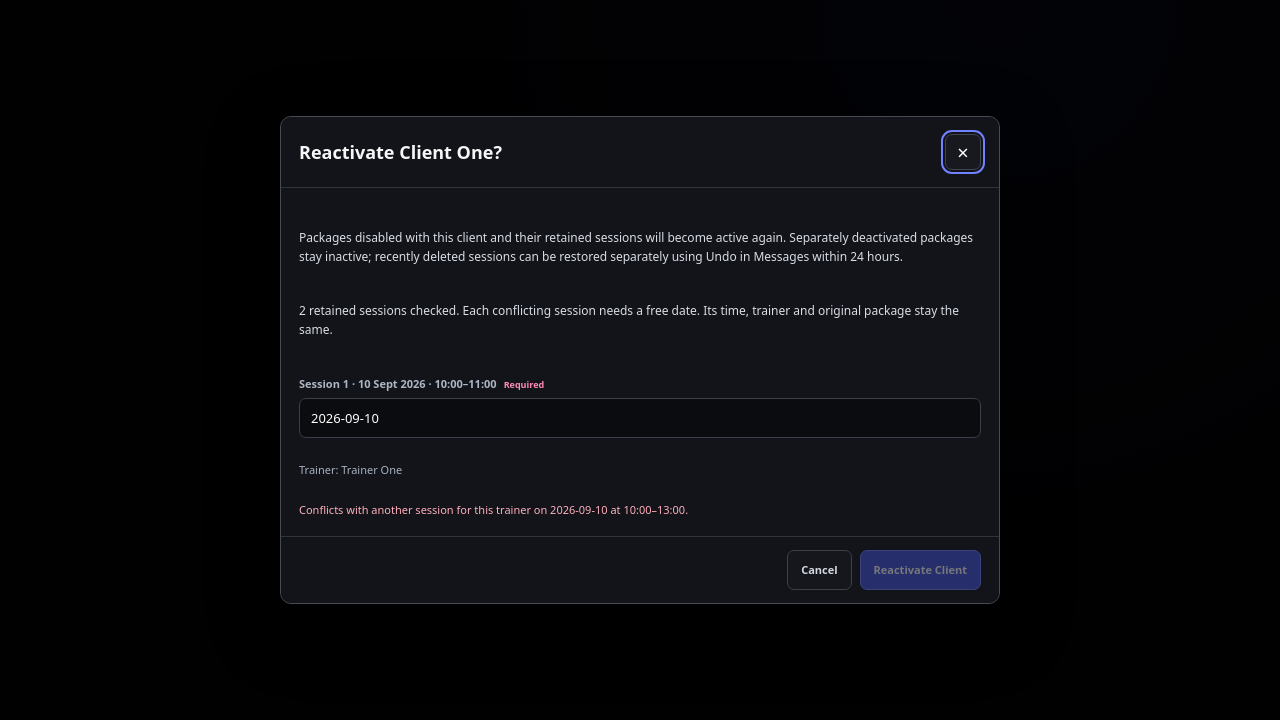
Test: blocks malformed dates and conflicts introduced by proposed moves
Replace the text in the field labelled "Session 1 · 10 Sept 2026 · 10:00–11:00 Required" with "2026-02-31" at (640, 418), box [299, 398, 981, 438]
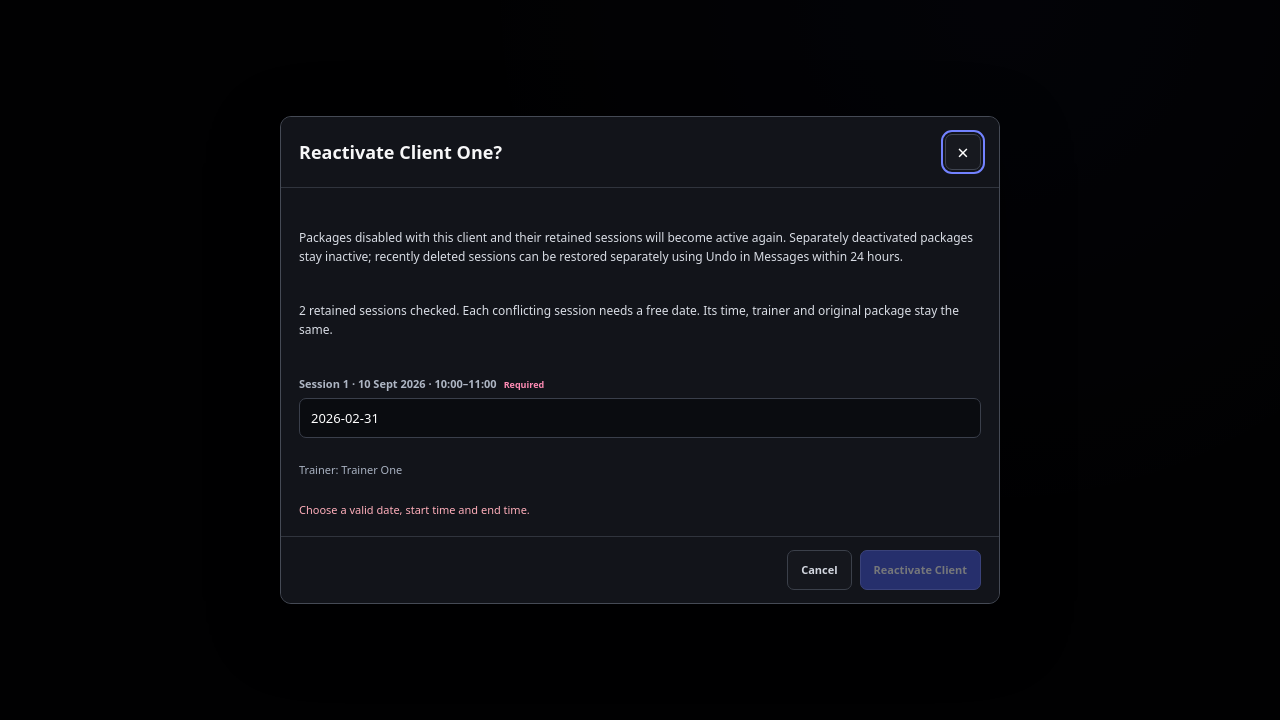
Expected: the button "Reactivate Client" is disabled, [860, 550, 981, 590]
Replace the text in the field labelled "Session 1 · 10 Sept 2026 · 10:00–11:00 Required" with "2026-09-11" at (640, 418), box [299, 398, 981, 438]
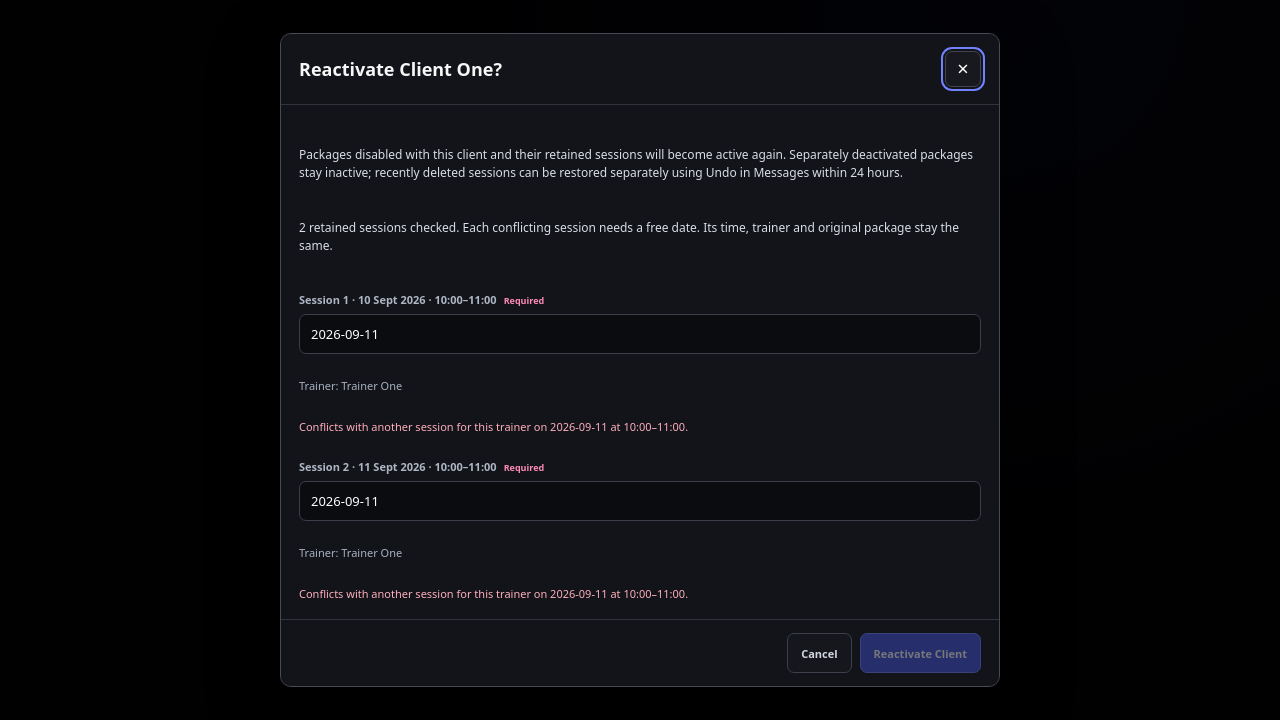
Expected: the button "Reactivate Client" is disabled, [860, 633, 981, 673]
Replace the text in the field labelled "Session 2 · 11 Sept 2026 · 10:00–11:00 Required" with "2026-09-12" at (640, 501), box [299, 481, 981, 521]
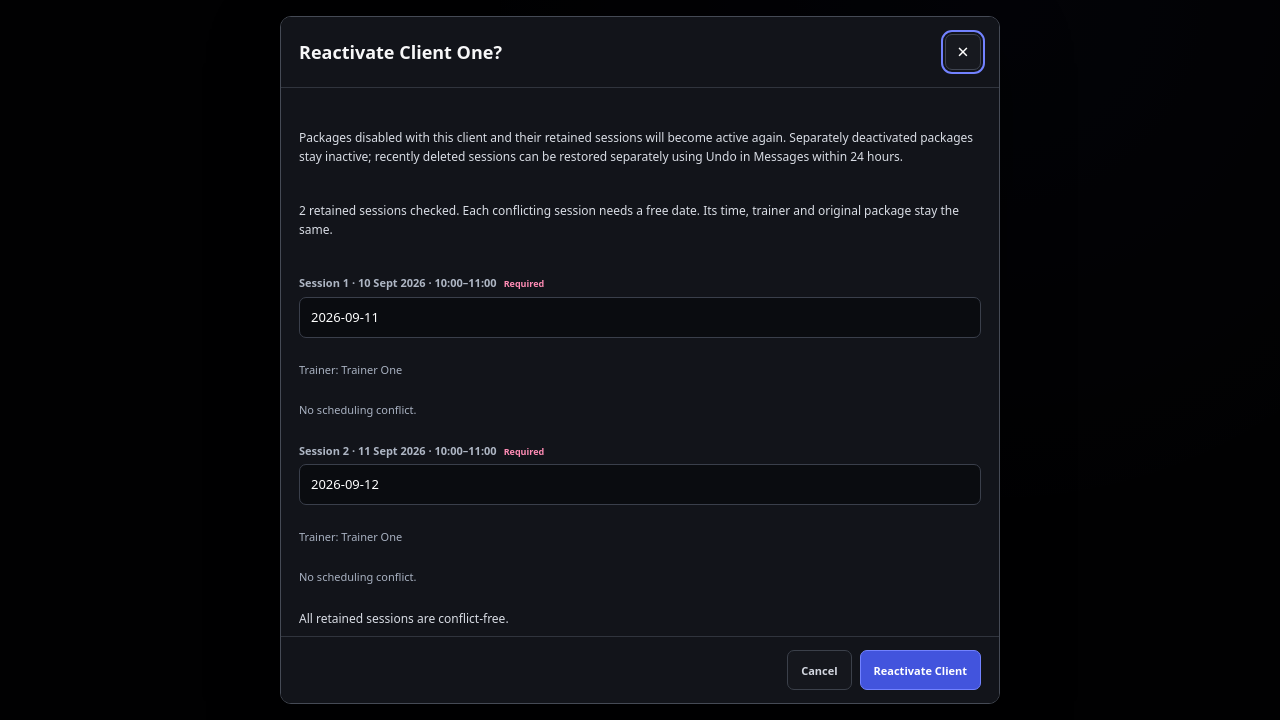
Expected: the button "Reactivate Client" is enabled, [860, 650, 981, 690]
